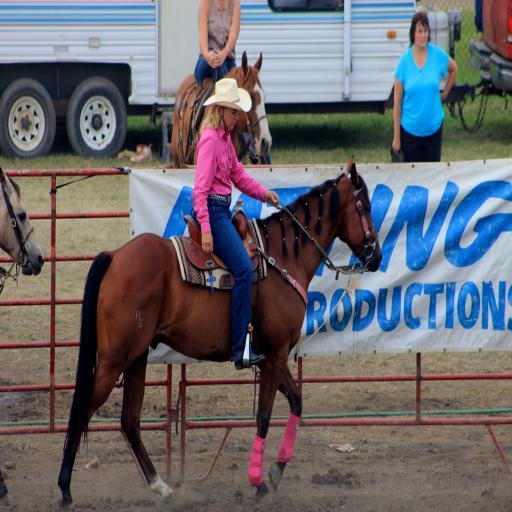horse: (58, 152, 384, 510), (170, 50, 272, 168), (0, 163, 43, 273)
